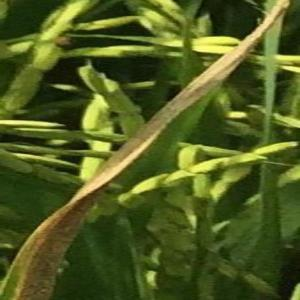Bacterial_Blight: (109, 50, 223, 181)
